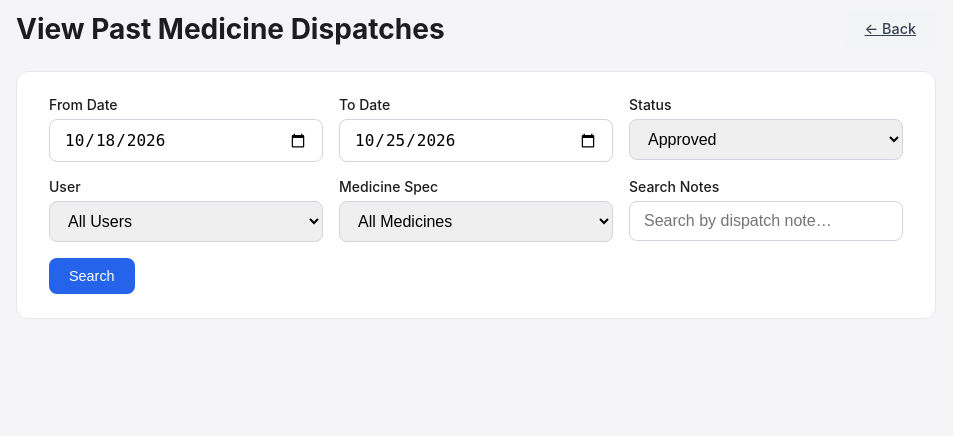
Test: ViewPastTransactions — search › shows error alert when API fails
Click the button "Search" at (92, 276), box [49,258,135,294]
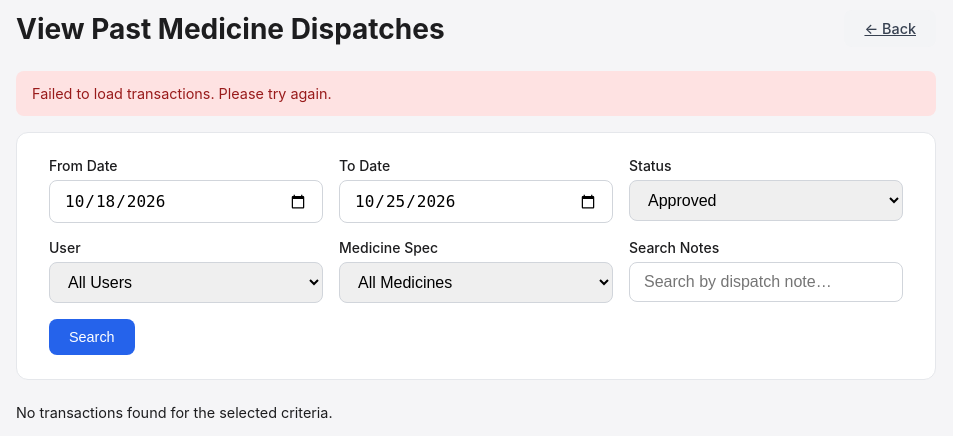
expect the message shows "Failed to load transactions": met, box [32,85,332,102]
